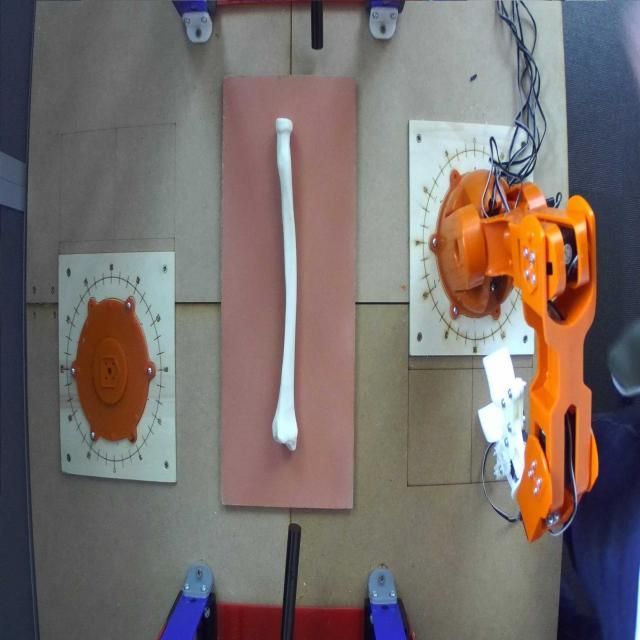bone: (268, 116, 306, 451)
